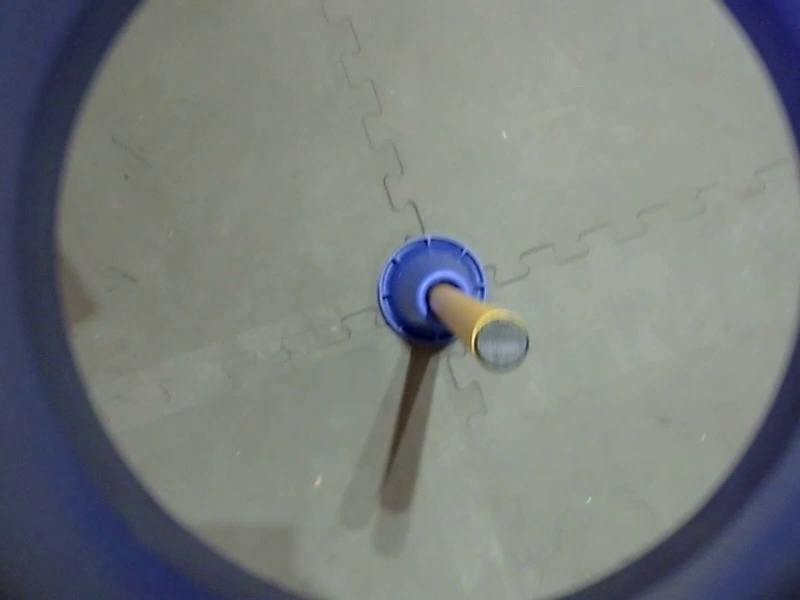tip: (272, 114, 374, 215)
